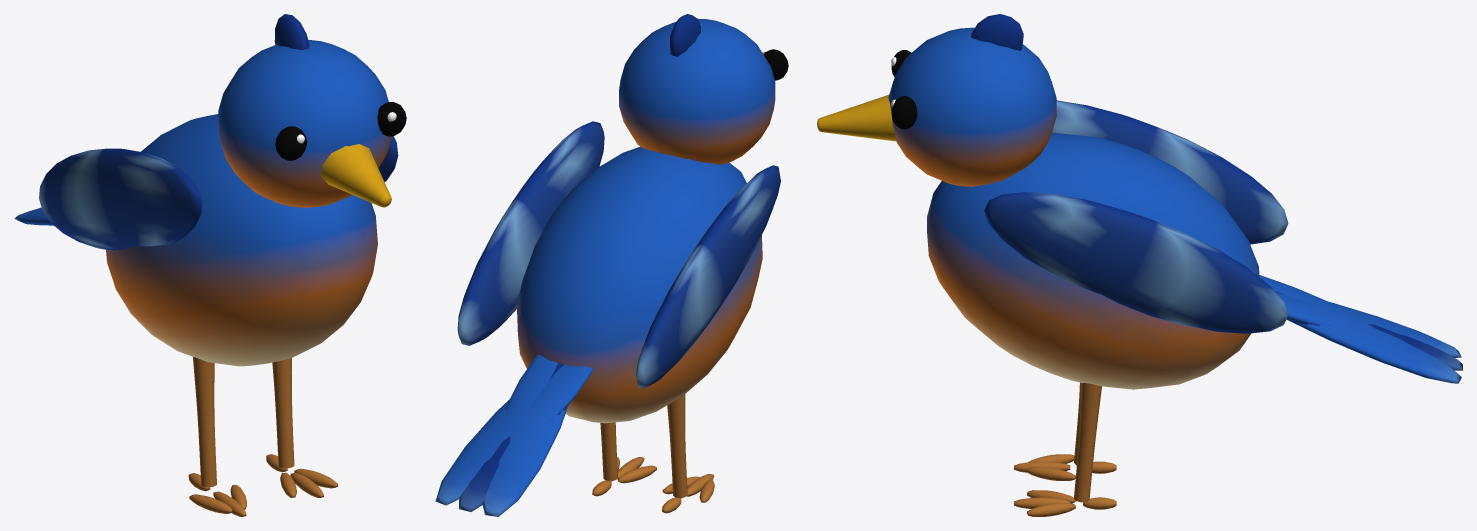
The model's file is bird.glb.
3 renders of one model, left to right at view 1: azimuth 30°, elevation 25°; view 2: azimuth 150°, elevation 25°; view 3: azimuth 270°, elevation 25°, orthographic. The views are drawn at different scales.
Parts seen in each view (by area): view 1: bird; view 2: bird; view 3: bird.
Boxes of the visible parts, bbox=[...] form: bird: bbox=[14, 14, 406, 516]; bird: bbox=[435, 14, 788, 516]; bird: bbox=[817, 14, 1462, 516].
Bounding box in the file's own units: 0.4178 × 0.8664 × 1.06.
